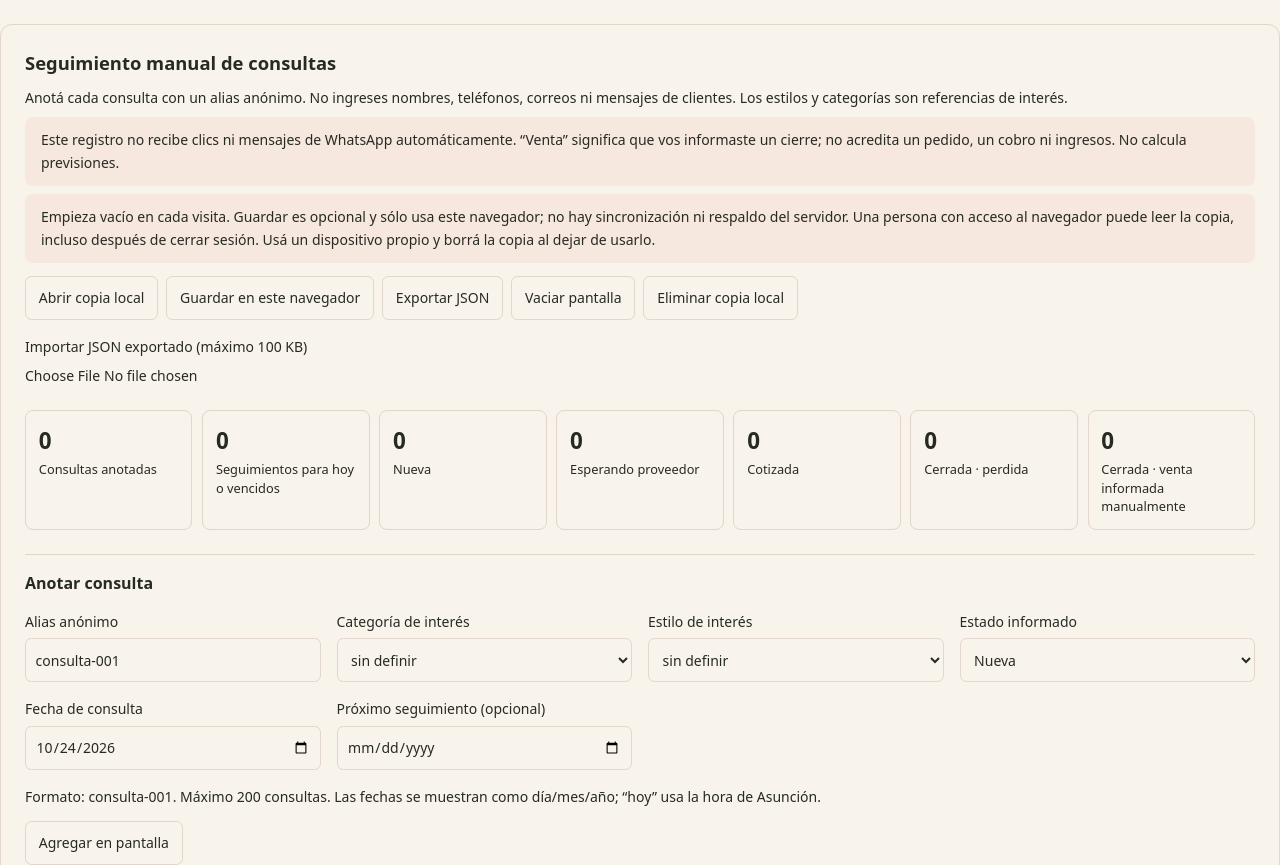
Test: manual owner workbench › starts empty even with a saved copy until the owner opens it
Click the button "Abrir copia local" at coordinates (92, 298), box left=25, top=276, right=158, bottom=320
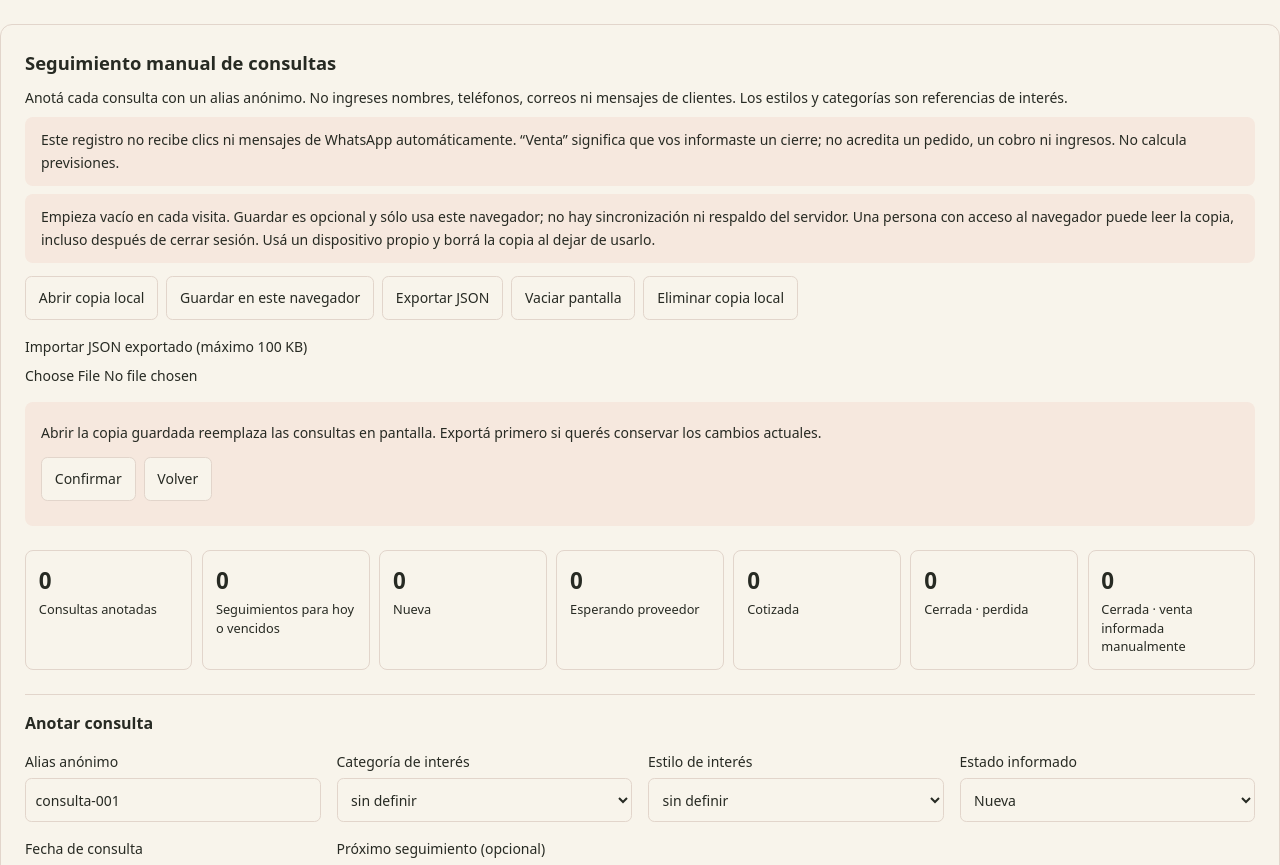
Click the button "Confirmar" at coordinates (88, 479), box left=41, top=457, right=136, bottom=501
(page scrolled)
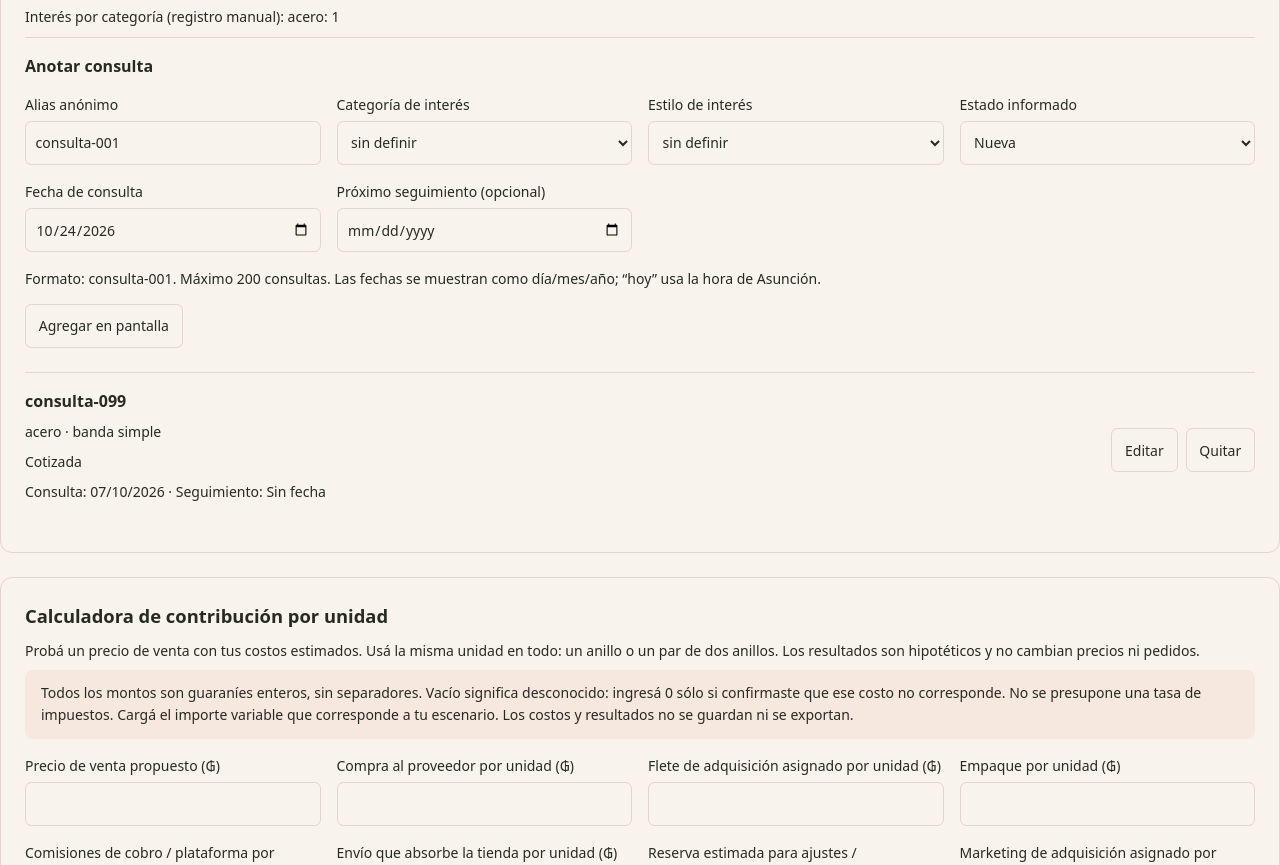
Expected: the button with aria-label "Editar consulta-099" is shown, left=1111, top=428, right=1178, bottom=472
